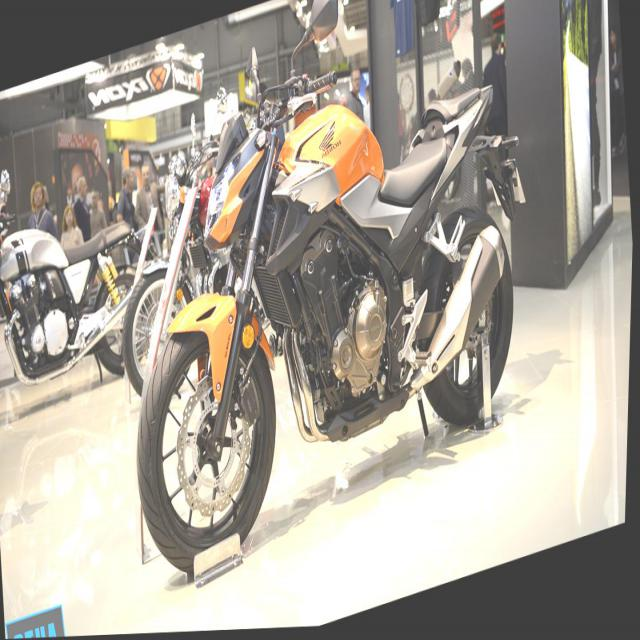CB500F: (110, 29, 538, 598)
